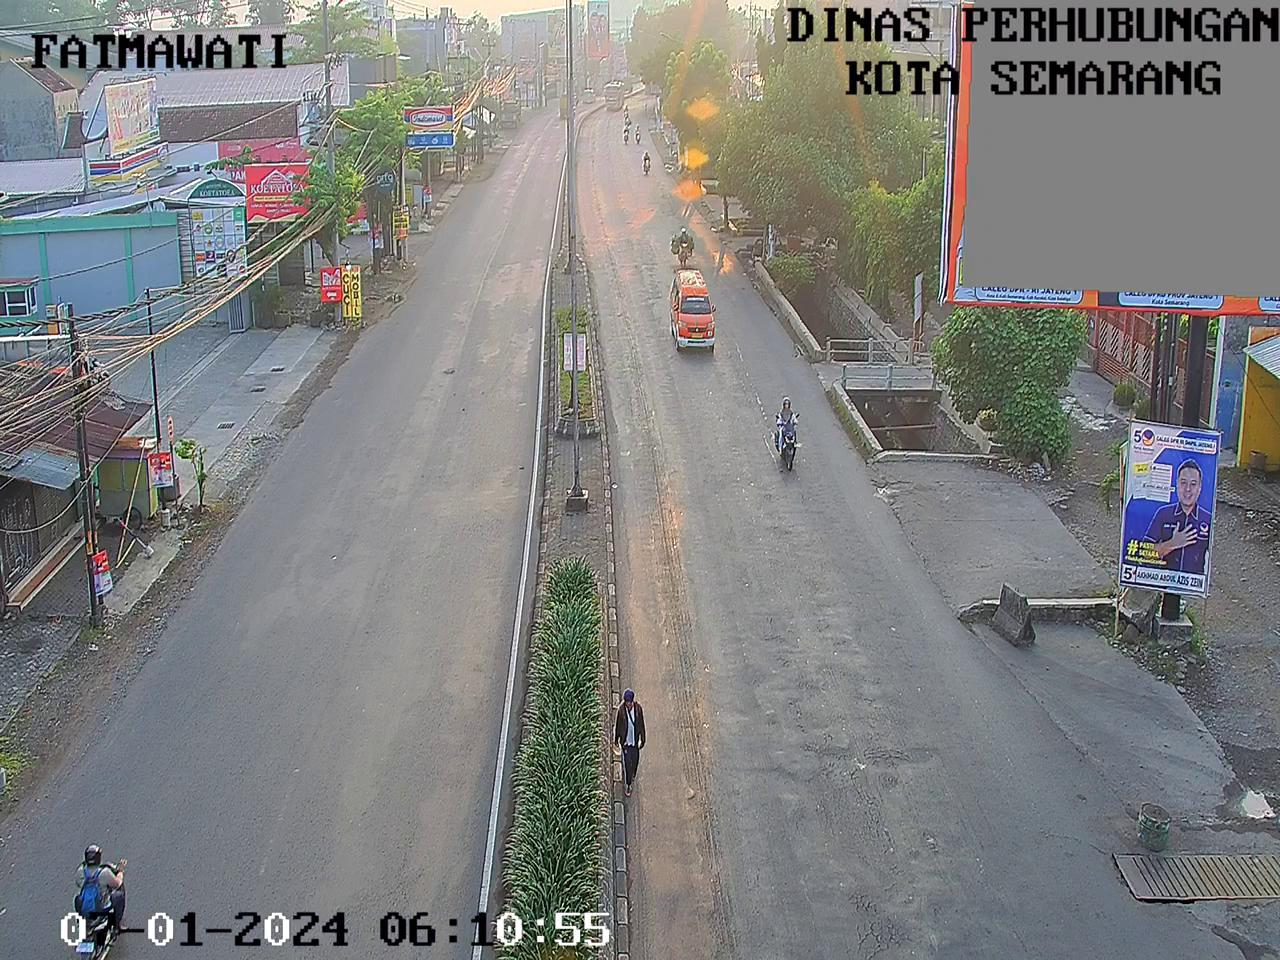bus: (597, 78, 626, 112)
car: (654, 260, 728, 366)
motorcycle: (766, 389, 812, 480), (660, 220, 701, 273), (631, 150, 659, 185), (631, 125, 645, 147), (619, 101, 632, 113), (623, 125, 630, 146), (623, 114, 633, 128)
